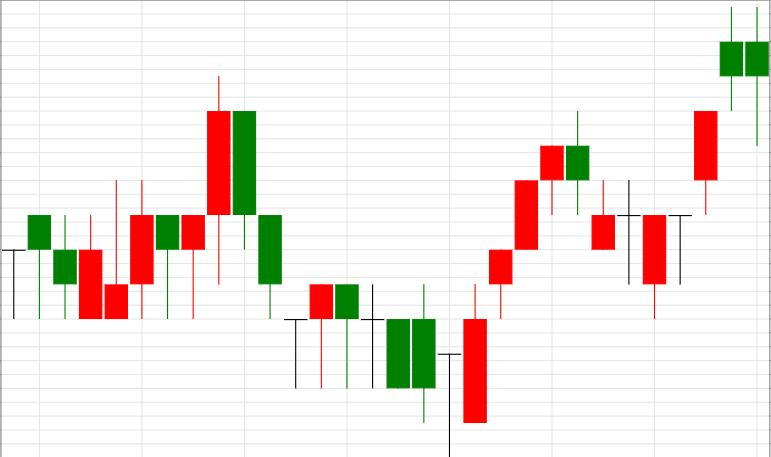hammer_rise: (233, 111, 359, 389)
